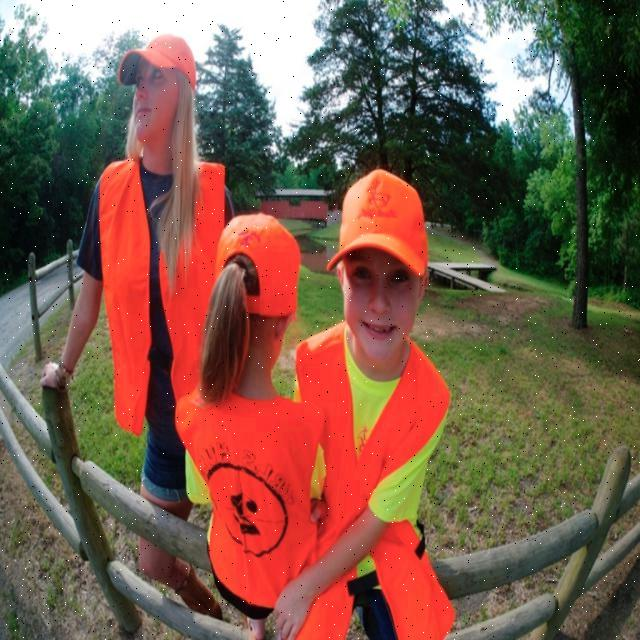Vest: (296, 332, 447, 560), (98, 155, 225, 419), (174, 393, 318, 605)
